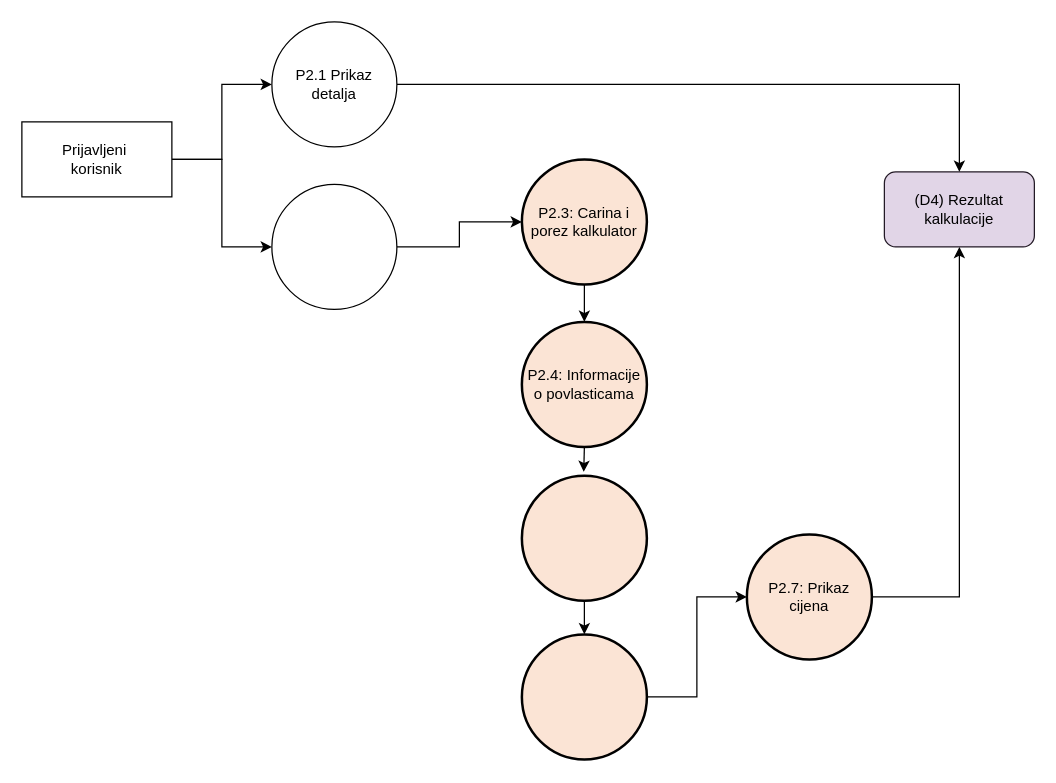
This 1056x783 diagram has some shape labels left out. The centre of each missing label's shape, as x and y in pixels:
P2.2 Generiranje cijena: point 334,246
P2.5: Financiranje - Kreditni kalkulator: point 584,537
P2.6: Financiranje - Leasing kalkulator: point 584,696
